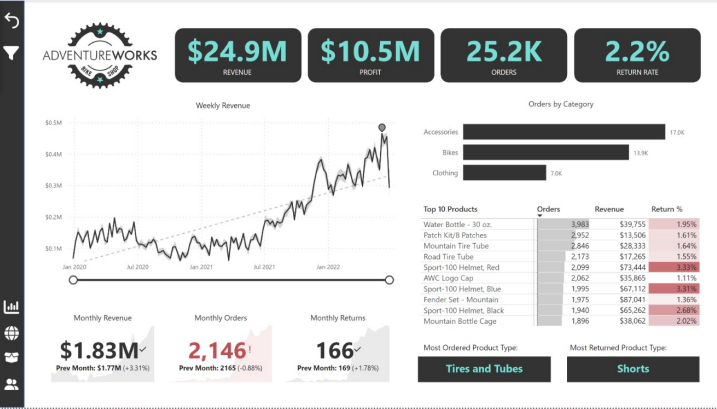

Layout of this report page (visuals, bound fields, positions):
{"tool":"powerbi","page":{"name":"Exec Dashboard","canvas":[1280,720],"ordinal":0},"visuals":[{"type":"image","title":"AW Logo","box":[26.2,0,282.5,151.2],"z":0},{"type":"shape","box":[300.7,25.5,224.3,100],"z":1000},{"type":"shape","box":[547.4,25.5,224.3,100],"z":2000},{"type":"shape","title":"Aside","box":[0,0,48.8,720],"z":3000},{"type":"card","fields":{"Values":["MeasureTable.Total Revenue"]},"box":[281.2,0.5,282.5,151.2],"z":4000},{"type":"card","fields":{"Values":["MeasureTable.Total Profit"]},"box":[518.8,0.1,282.5,151.2],"z":5000},{"type":"shape","box":[794,25.5,224.3,100],"z":6000},{"type":"shape","box":[1040.7,25.5,224.3,100],"z":7000},{"type":"card","fields":{"Values":["MeasureTable.Return Rate"]},"box":[1082.5,0.9,140,151.2],"z":8000},{"type":"card","fields":{"Values":["MeasureTable.Total Orders"]},"box":[765,-0.4,282.5,151.2],"z":9000},{"type":"lineChart","title":"Revenue Trending","fields":{"Y":["MeasureTable.Total Revenue"],"Category":["Calender.Year","Calender.Start of Month","Calender.Start of Week"]},"box":[71.2,151.2,623.8,396.2],"z":10000},{"type":"kpi","title":"Monthly Revenue","fields":{"Indicator":["MeasureTable.Total Revenue"],"TrendLine":["Calender.Start of Month"],"Goal":["MeasureTable.Previous Month Revenue"]},"box":[167.5,565,175,143.8],"z":11000},{"type":"kpi","title":"Monthly Orders","fields":{"TrendLine":["Calender.Start of Month"],"Indicator":["MeasureTable.Total Orders"],"Goal":["MeasureTable.Previous month orders"]},"box":[360,565,175,143.8],"z":12000},{"type":"kpi","title":"Monthly Returns","fields":{"TrendLine":["Calender.Start of Month"],"Goal":["MeasureTable.Previous month returns"],"Indicator":["MeasureTable.Total Returns"]},"box":[552.5,565,175,143.8],"z":13000},{"type":"clusteredBarChart","title":"Orders by Category","fields":{"Category":["Categories.CategoryName"],"Y":["MeasureTable.Total Orders"]},"box":[751.2,135,471.2,206.2],"z":14000},{"type":"pivotTable","fields":{"Values":["MeasureTable.Total Orders","MeasureTable.Total Revenue","MeasureTable.Return Rate"],"Rows":["Product.ProductName"]},"box":[756.2,341.2,491.2,206.2],"z":15000},{"type":"card","fields":{"Values":["Min(Subcategories.SubcategoryName)"]},"box":[756.7,587.8,200,48.9],"z":16000},{"type":"textbox","box":[756.7,555.6,185.6,32.2],"z":17000},{"type":"card","fields":{"Values":["Min(Subcategories.SubcategoryName)"]},"box":[961.3,587.1,200,48.9],"z":18000},{"type":"textbox","box":[961.3,554.9,185.6,32.2],"z":19000},{"type":"actionButton","box":[3.8,0.8,36.2,34.6],"z":20000},{"type":"actionButton","box":[5.3,480,60,40],"z":21000},{"type":"actionButton","box":[5.3,537.1,60,40],"z":22000},{"type":"actionButton","box":[5.3,594.3,60,40],"z":23000},{"type":"actionButton","box":[5.3,651.4,60,40],"z":24000},{"type":"actionButton","box":[3.8,57.5,36.2,33.8],"z":25000}]}

Visuals, with their boxes in screenshot pixels (x1, y1, x2, y2), scaled from the page's 1280x720 canvas onto the 717x409 screenshot:
"AW Logo" image: detection(15, 0, 173, 86)
shape: detection(168, 14, 294, 71)
shape: detection(307, 14, 432, 71)
"Aside" shape: detection(0, 0, 27, 408)
card - MeasureTable.Total Revenue: detection(158, 0, 316, 86)
card - MeasureTable.Total Profit: detection(291, 0, 449, 86)
shape: detection(445, 14, 570, 71)
shape: detection(583, 14, 709, 71)
card - MeasureTable.Return Rate: detection(606, 1, 685, 86)
card - MeasureTable.Total Orders: detection(429, 0, 587, 86)
"Revenue Trending" lineChart: detection(40, 86, 389, 311)
"Monthly Revenue" kpi: detection(94, 321, 192, 403)
"Monthly Orders" kpi: detection(202, 321, 300, 403)
"Monthly Returns" kpi: detection(309, 321, 408, 403)
"Orders by Category" clusteredBarChart: detection(421, 77, 685, 194)
pivotTable - MeasureTable.Total Orders x MeasureTable.Total Revenue: detection(424, 194, 699, 311)
card - Min(Subcategories.SubcategoryName): detection(424, 334, 536, 362)
textbox: detection(424, 316, 528, 334)
card - Min(Subcategories.SubcategoryName): detection(538, 334, 651, 361)
textbox: detection(538, 315, 642, 334)
actionButton: detection(2, 0, 22, 20)
actionButton: detection(3, 273, 37, 295)
actionButton: detection(3, 305, 37, 328)
actionButton: detection(3, 338, 37, 360)
actionButton: detection(3, 370, 37, 393)
actionButton: detection(2, 33, 22, 52)
